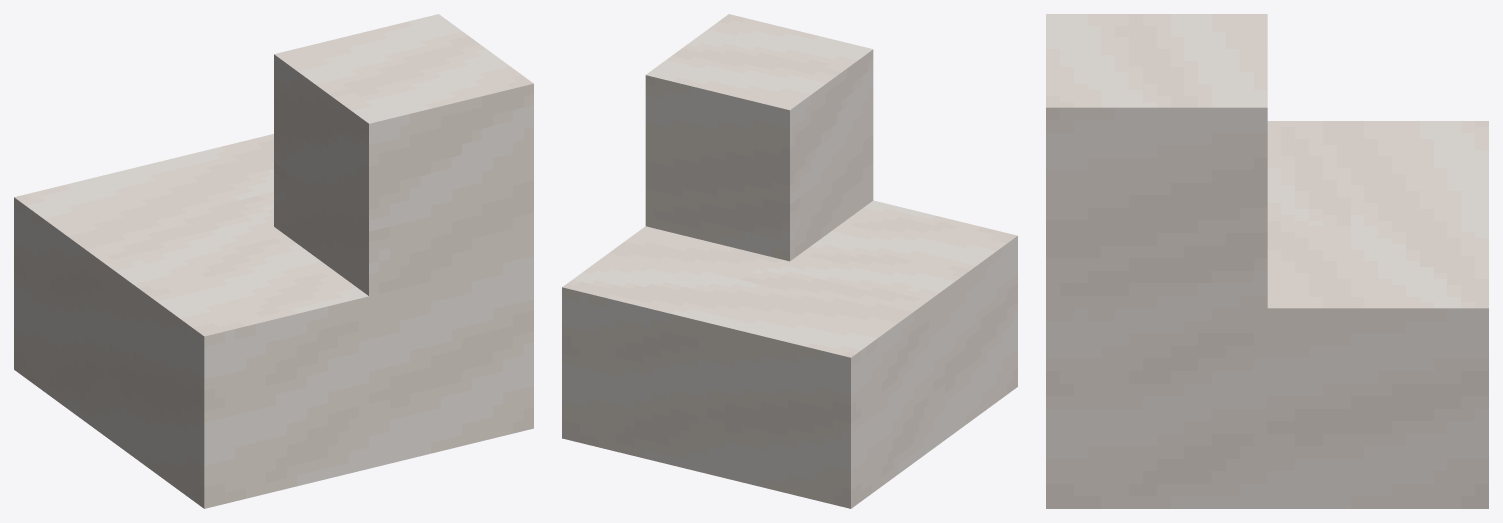
Rendered from block_smooth_quartz_stairs_outer.gltf.
3 renders of one model, left to right at view 1: azimuth 30°, elevation 25°; view 2: azimuth 150°, elevation 25°; view 3: azimuth 270°, elevation 25°, orthographic. The views are drawn at different scales.
Visible parts, largest first — view 1: cube (×2); view 2: cube (×2); view 3: cube (×2).
Part boxes in pixels (<box>): cube (×2): <box>14,14,533,508</box>; cube (×2): <box>562,14,1017,508</box>; cube (×2): <box>1046,14,1488,508</box>.
Size of the model in its own units: 1 by 1 by 1.
Materials: 1 (1 with a texture image).
